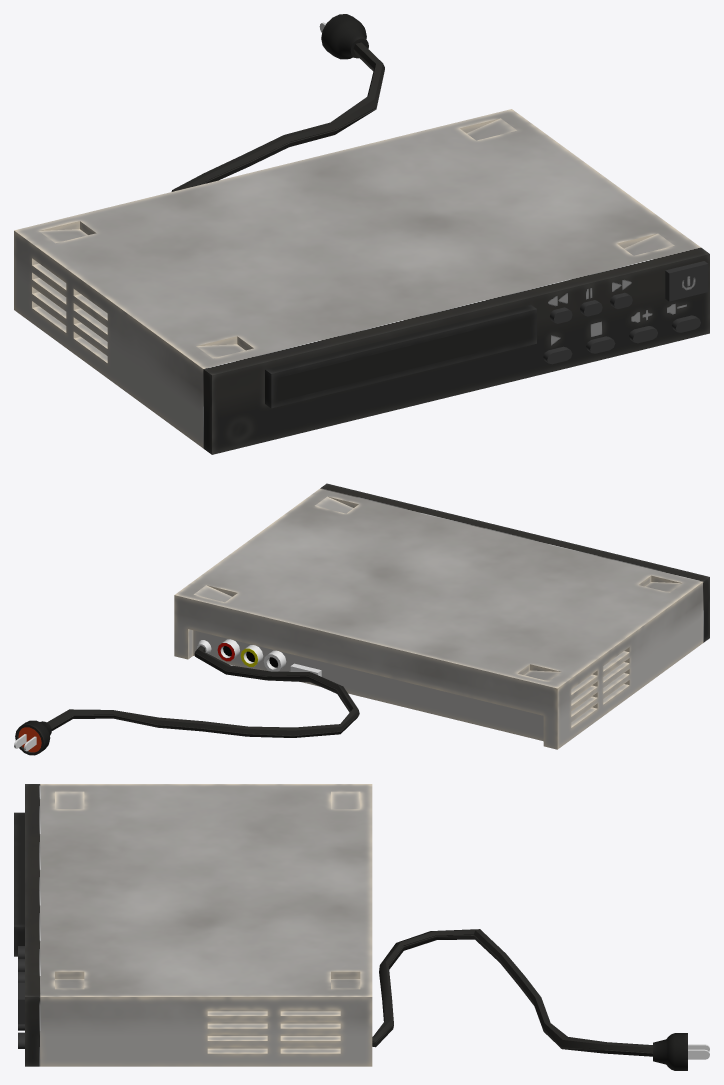
File: VHS.fbx
The picture shows the model from 3 angles, top to bottom: view 1: azimuth 30°, elevation 25°; view 2: azimuth 150°, elevation 25°; view 3: azimuth 270°, elevation 25°; orthographic projection. The views are drawn at different scales.
Visible parts, largest first — view 1: VHS; view 2: VHS; view 3: VHS.
Part boxes in pixels (x1,y1,x2,y2): VHS: (14, 14, 709, 454); VHS: (14, 483, 709, 755); VHS: (14, 784, 709, 1070).
Bounding box in the file's own units: 0.7806 × 0.1189 × 1.02.
